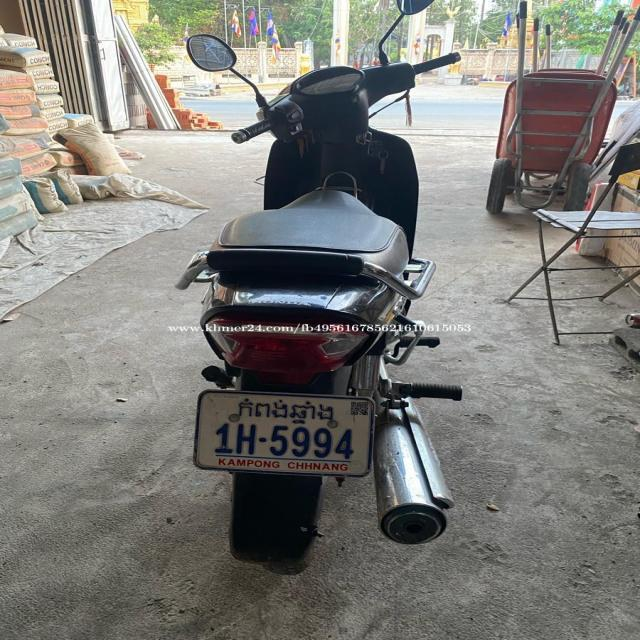Kampong_Chhnang: (234, 395, 339, 428)
